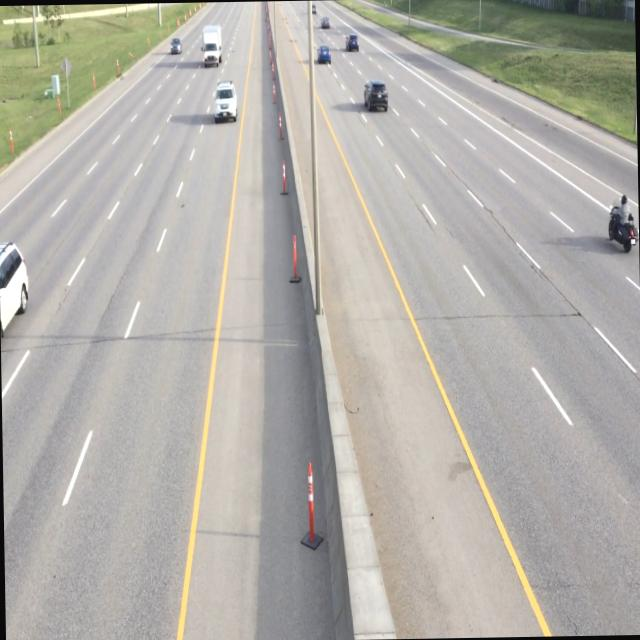Vehicle: (212, 80, 238, 126), (363, 78, 391, 115), (200, 24, 222, 70), (316, 41, 332, 68), (344, 30, 360, 55), (170, 36, 182, 57), (320, 15, 331, 30)
